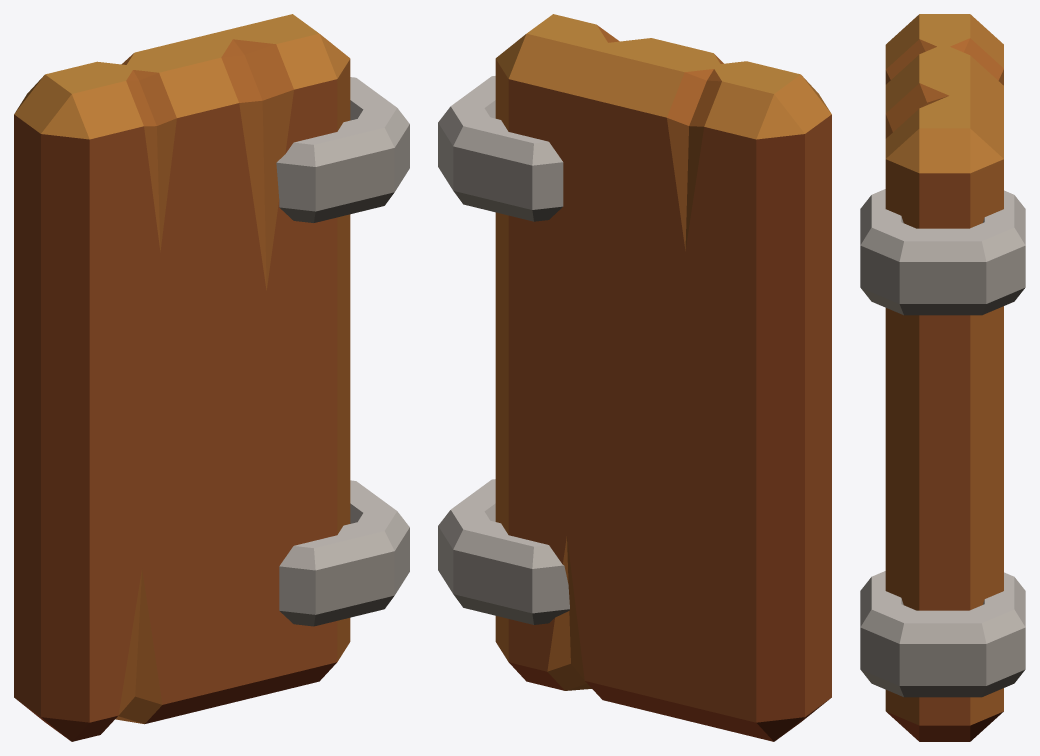
Rendered from m_deco_windowBlind.FBX.
3 views of the same model, side by side, from view 1: azimuth 30°, elevation 25°; view 2: azimuth 150°, elevation 25°; view 3: azimuth 270°, elevation 25° (orthographic). The views are drawn at different scales.
Parts seen in each view (by area): view 1: m_deco_windowBlind; view 2: m_deco_windowBlind; view 3: m_deco_windowBlind.
Boxes of the visible parts, box(x1,y1,x2,y2) form: m_deco_windowBlind: box(14, 14, 409, 741); m_deco_windowBlind: box(438, 14, 831, 741); m_deco_windowBlind: box(860, 14, 1025, 741).
Size of the model in its own units: 1.16 by 2 by 0.4879.
